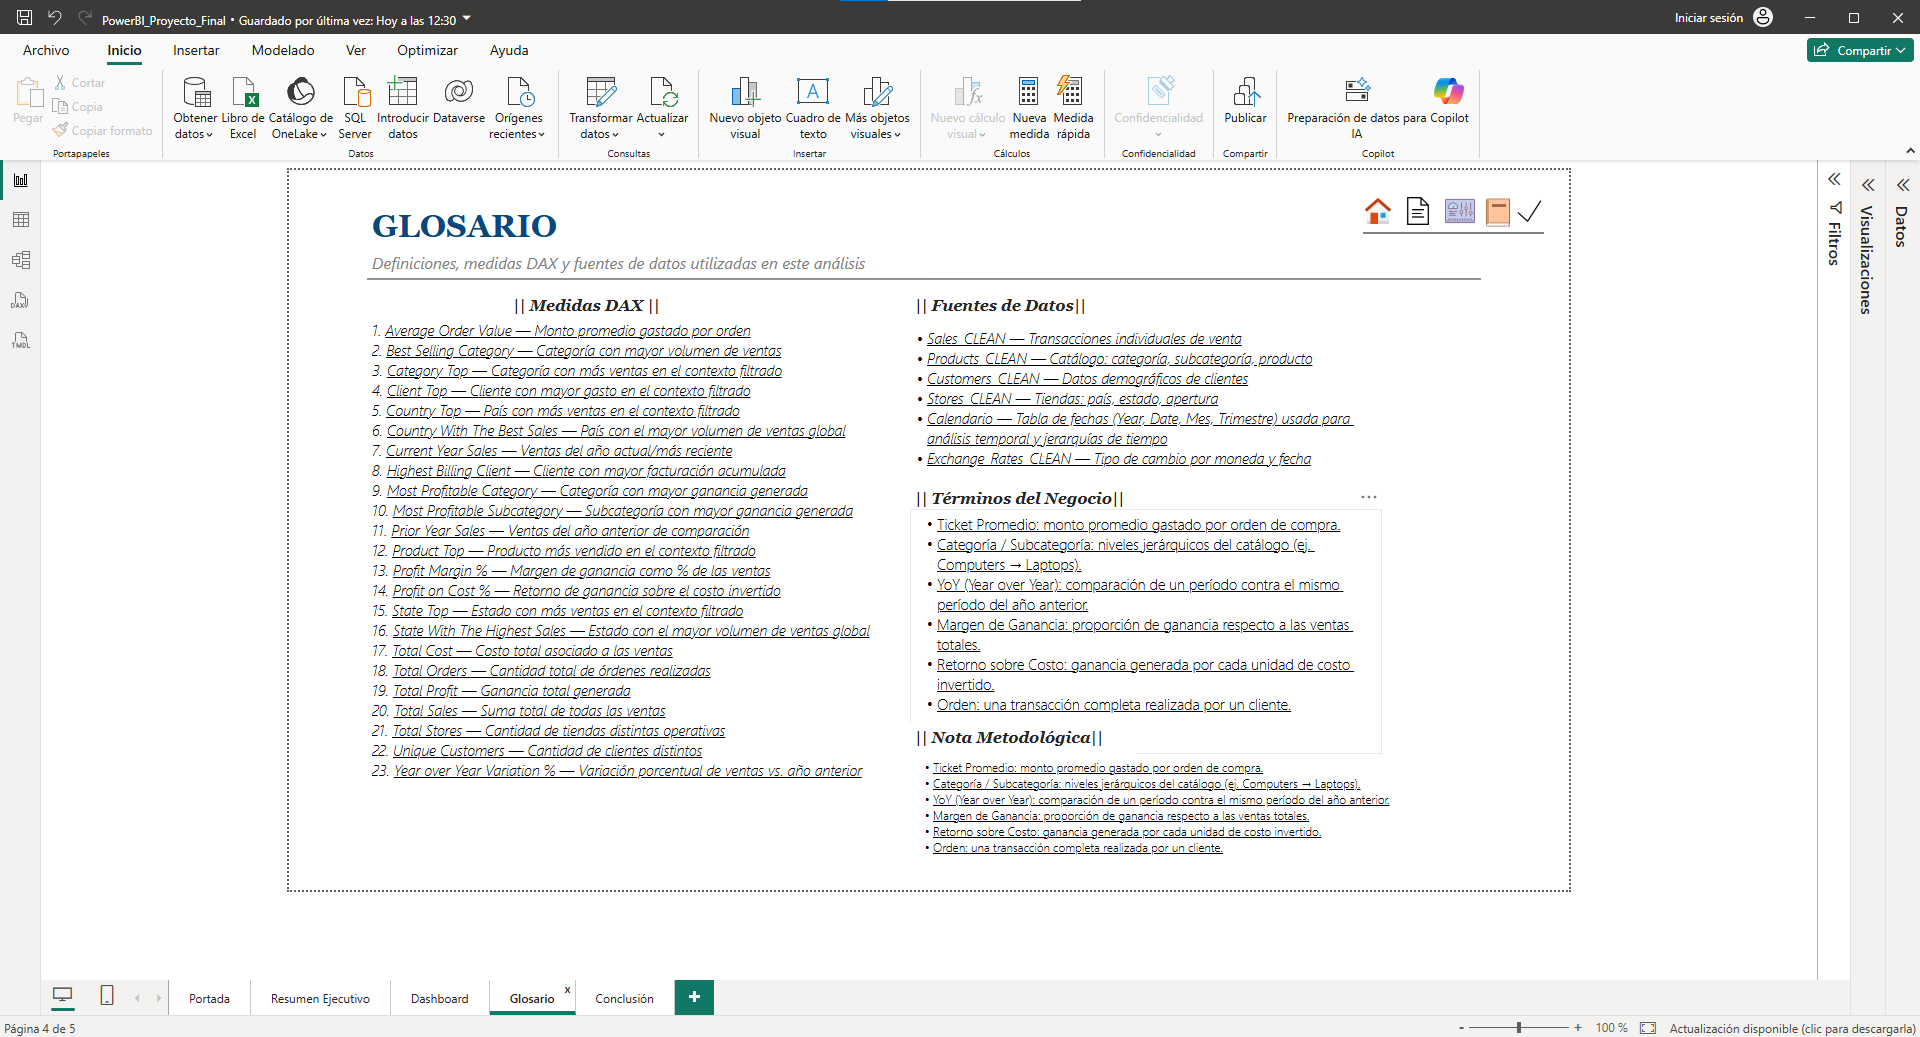

This screenshot's page, from the dashboard's own definition file:
{"tool":"powerbi","page":{"name":"Glosario","canvas":[1280,720],"ordinal":3},"visuals":[{"type":"textbox","box":[77.8,33.1,214,65.2],"z":0},{"type":"textbox","box":[77.8,76.8,517.4,32.1],"z":1000},{"type":"shape","box":[78.2,34,1113.3,150.2],"z":2000},{"type":"textbox","box":[78.2,145.1,561.8,509.3],"z":3000},{"type":"textbox","box":[219.2,121.4,170.8,31.9],"z":4000},{"type":"textbox","box":[621.5,121.4,189.3,31.9],"z":5000},{"type":"textbox","box":[611.2,153.3,470.2,177],"z":6000},{"type":"textbox","box":[621.5,313.8,225.3,31.9],"z":7000},{"type":"textbox","box":[621.5,338.5,471.3,245.9],"z":8000},{"type":"textbox","box":[621.5,552.5,225.3,31.9],"z":9000},{"type":"textbox","box":[621.5,584.4,540.2,135.8],"z":10000},{"type":"image","box":[1074.2,20.6,30.1,41],"z":11000},{"type":"image","box":[1113.8,19.5,30.1,41],"z":12000},{"type":"image","box":[1193.4,22.1,30.1,41],"z":13000},{"type":"image","box":[1225.4,20,30.1,41],"z":14000},{"type":"image","box":[1155.6,19.9,30.1,42],"z":15000},{"type":"shape","box":[1074.2,54.5,181.1,16.5],"z":16000}]}

Visuals, with their boxes on the page's 1280x720 design canvas (x1, y1, x2, y2). These are canvas units, not pixel positions in the 1920x1037 screenshot, which may show the page scaled, cropped or inside an application window:
textbox: left=78, top=33, right=292, bottom=98
textbox: left=78, top=77, right=595, bottom=109
shape: left=78, top=34, right=1192, bottom=184
textbox: left=78, top=145, right=640, bottom=654
textbox: left=219, top=121, right=390, bottom=153
textbox: left=622, top=121, right=811, bottom=153
textbox: left=611, top=153, right=1081, bottom=330
textbox: left=622, top=314, right=847, bottom=346
textbox: left=622, top=338, right=1093, bottom=584
textbox: left=622, top=552, right=847, bottom=584
textbox: left=622, top=584, right=1162, bottom=720
image: left=1074, top=21, right=1104, bottom=62
image: left=1114, top=20, right=1144, bottom=60
image: left=1193, top=22, right=1224, bottom=63
image: left=1225, top=20, right=1256, bottom=61
image: left=1156, top=20, right=1186, bottom=62
shape: left=1074, top=54, right=1255, bottom=71
